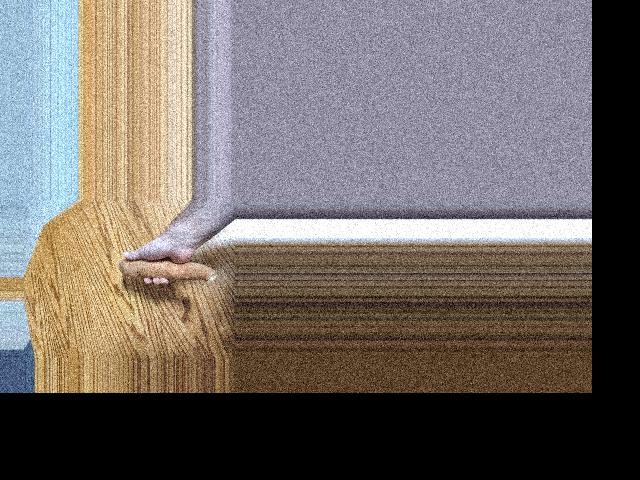sweet_potato: (122, 251, 217, 280)
